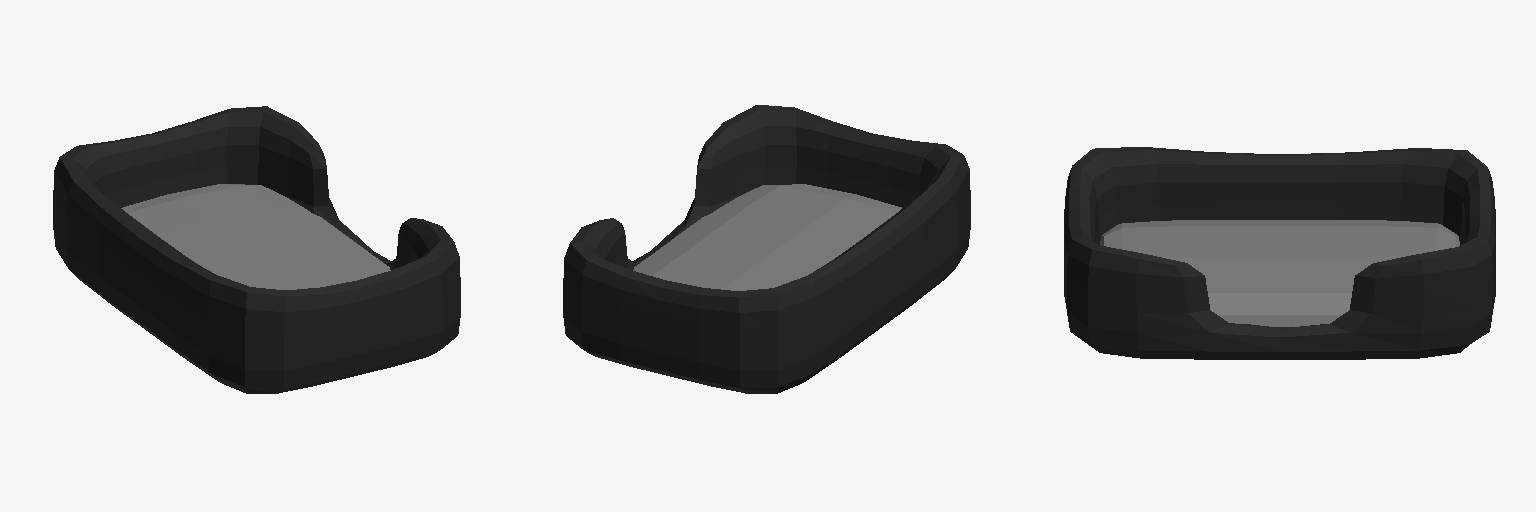
The model's file is DogBed.obj.
3 views of the same model, side by side, from view 1: azimuth 30°, elevation 25°; view 2: azimuth 150°, elevation 25°; view 3: azimuth 270°, elevation 25° (orthographic).
Visible parts, largest first — view 1: DogBed_Cube.001; view 2: DogBed_Cube.001; view 3: DogBed_Cube.001.
Boxes of the visible parts, x1,y1,x2,y2 form: DogBed_Cube.001: [53, 106, 460, 393]; DogBed_Cube.001: [563, 105, 970, 393]; DogBed_Cube.001: [1064, 147, 1495, 359].
Bounding box in the file's own units: 1.19 × 0.5454 × 1.86.